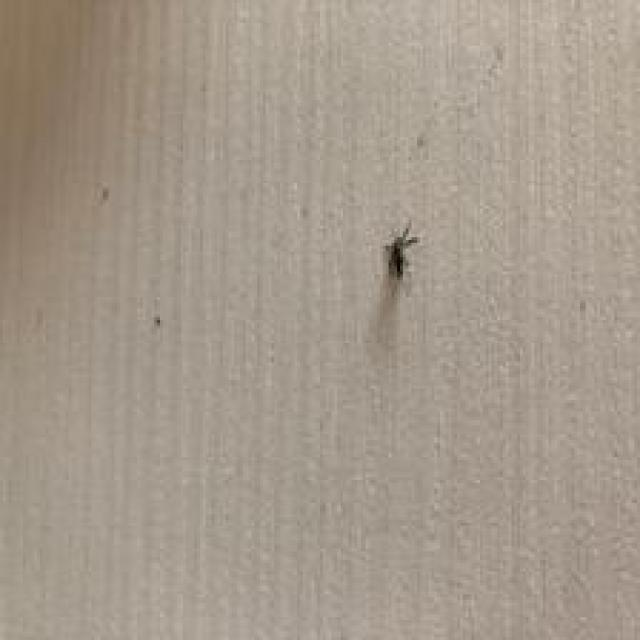Aedes albopictus: (382, 223, 418, 280)
